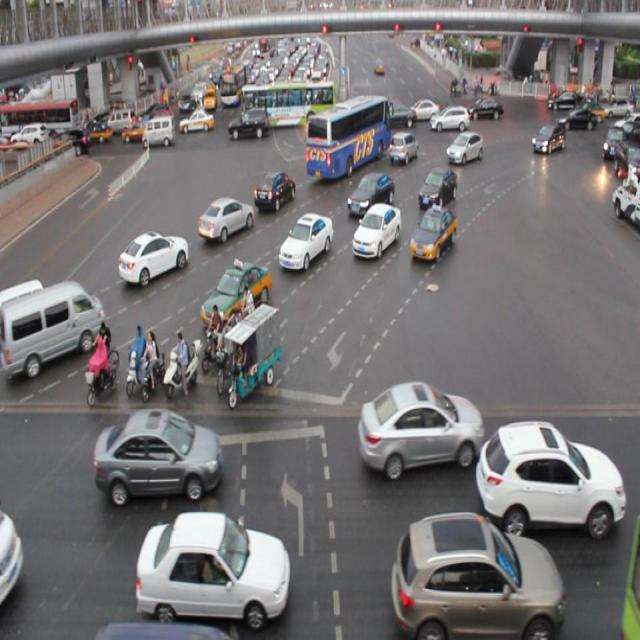car: (389, 509, 565, 640), (475, 414, 623, 538), (137, 513, 290, 625), (358, 378, 483, 472), (95, 408, 225, 497), (200, 258, 273, 329), (117, 228, 189, 286), (279, 212, 334, 272), (349, 202, 402, 260), (1, 279, 48, 340), (410, 206, 456, 263), (198, 198, 254, 243), (345, 174, 396, 209), (415, 165, 455, 205), (253, 173, 296, 209), (446, 132, 484, 164), (530, 122, 564, 154), (390, 131, 420, 163)
truck: (1, 283, 105, 375), (1, 500, 24, 609)
van: (305, 94, 392, 176)
